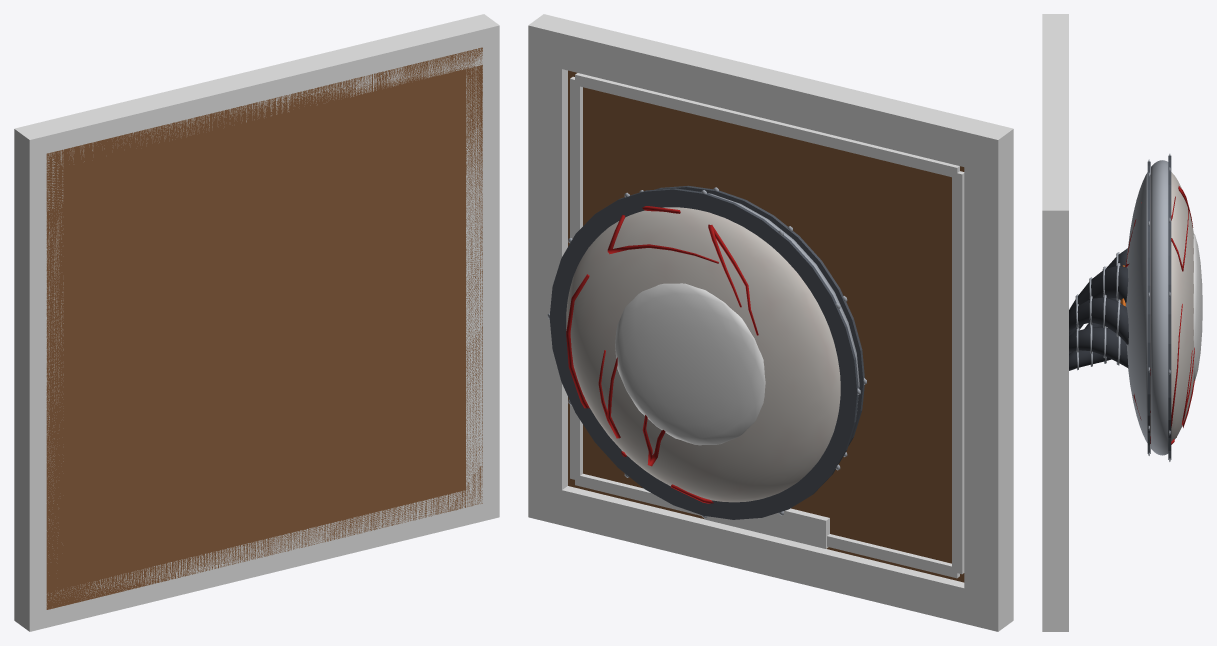
The model's file is retinazer_trophy_v0.glb.
3 views of the same model, side by side, from view 1: azimuth 30°, elevation 25°; view 2: azimuth 150°, elevation 25°; view 3: azimuth 270°, elevation 25° (orthographic). The views are drawn at different scales.
Parts seen in each view (by area): view 1: retinazer_trophy_v0; view 2: retinazer_trophy_v0; view 3: retinazer_trophy_v0.
Part boxes in pixels (box(x1,y1,x2,y2)): retinazer_trophy_v0: box(14, 14, 499, 631); retinazer_trophy_v0: box(528, 14, 1013, 631); retinazer_trophy_v0: box(1042, 14, 1202, 631).
Bounding box in the file's own units: 1.39 × 1.39 × 0.48.
